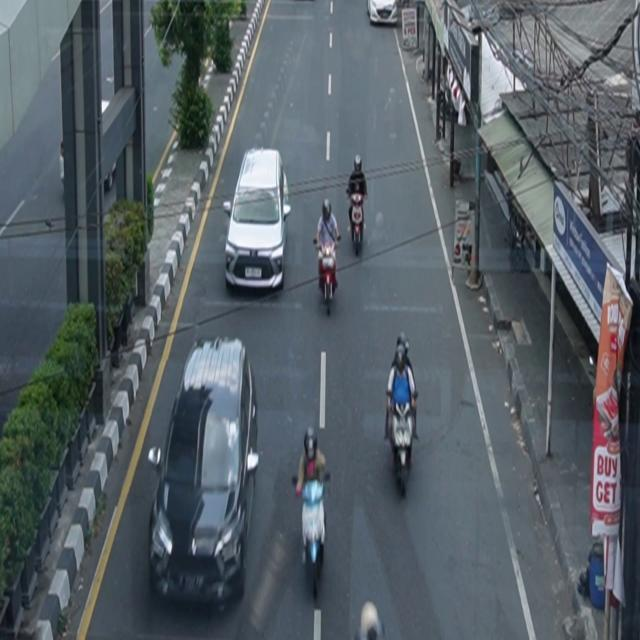car: (149, 336, 261, 612), (224, 147, 292, 294), (367, 1, 398, 26)
